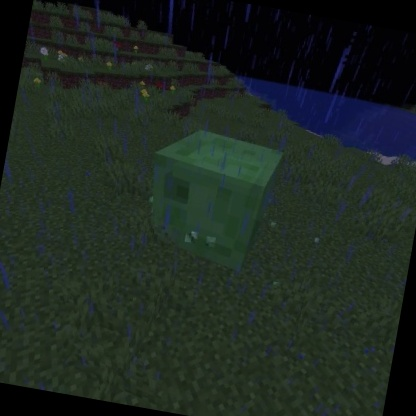slime: (131, 117, 290, 281)
